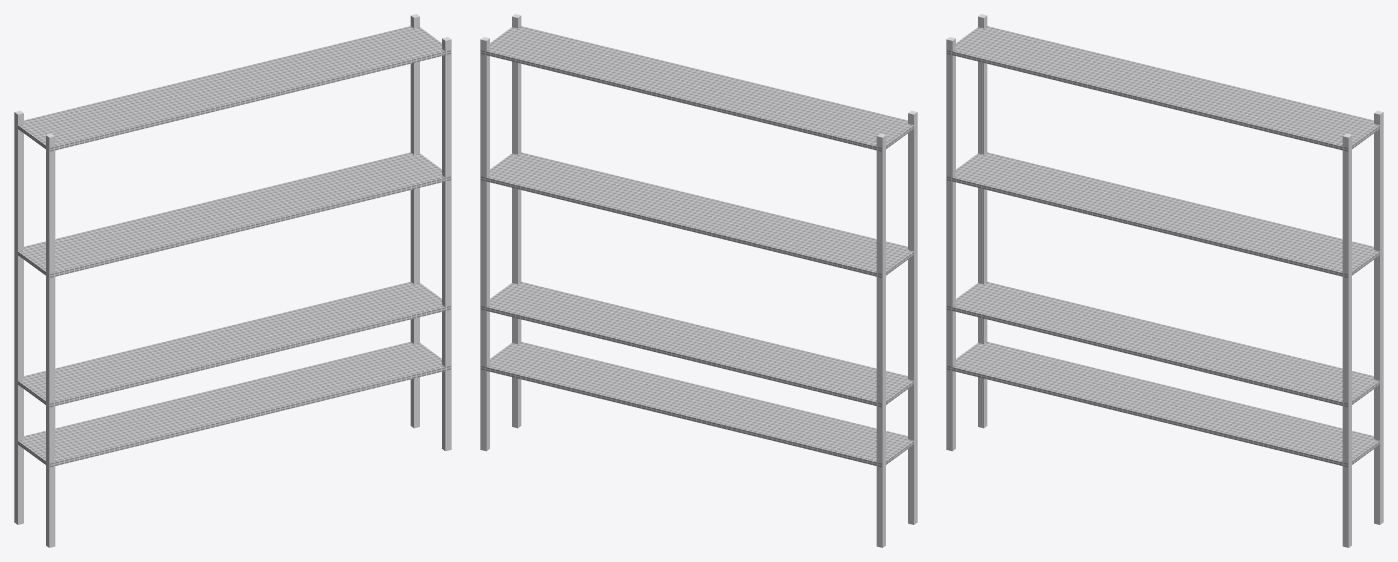
Rendered from shelf.dae.
3 renders of one model, left to right at view 1: azimuth 30°, elevation 25°; view 2: azimuth 150°, elevation 25°; view 3: azimuth 330°, elevation 25°, orthographic.
Parts seen in each view (by area): view 1: board_4, board_2, board_3, board_1, post_4, post_2, post_3, post_1; view 2: board_4, board_2, board_3, board_1, post_3, post_1, post_4, post_2; view 3: board_4, board_2, board_3, board_1, post_2, post_1, post_4, post_3.
Boxes of the visible parts, x1,y1,x2,y2 form: board_4: [18, 26, 451, 151]; board_2: [18, 281, 451, 407]; board_3: [18, 152, 451, 277]; board_1: [18, 341, 451, 467]; post_4: [46, 133, 55, 547]; post_2: [442, 37, 451, 451]; post_3: [14, 110, 23, 524]; post_1: [410, 14, 419, 428]; board_4: [480, 26, 913, 151]; board_2: [480, 281, 913, 407]; board_3: [480, 152, 913, 277]; board_1: [480, 341, 913, 467]; post_3: [876, 133, 885, 547]; post_1: [480, 37, 489, 451]; post_4: [908, 110, 917, 524]; post_2: [512, 14, 521, 428]; board_4: [946, 26, 1379, 151]; board_2: [946, 281, 1379, 407]; board_3: [946, 152, 1379, 277]; board_1: [946, 341, 1379, 467]; post_2: [1342, 133, 1351, 547]; post_1: [1374, 110, 1383, 524]; post_4: [946, 37, 955, 451]; post_3: [978, 14, 987, 428].
Size of the model in its own units: 2 by 0.3 by 1.95.
Materials: 2 (1 with a texture image).
